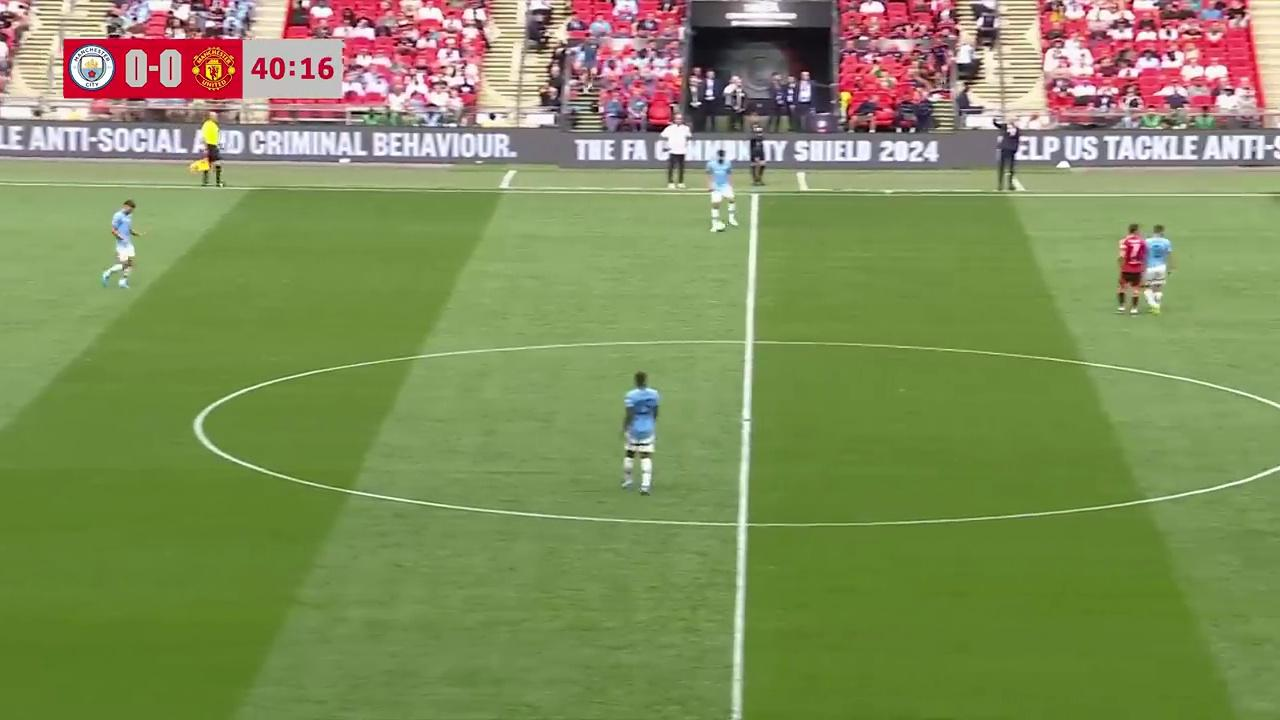ball: (117, 275, 128, 290)
player: (619, 370, 660, 495), (1136, 223, 1175, 314), (1117, 222, 1151, 315), (108, 199, 142, 287), (705, 158, 738, 232)
referee: (190, 107, 231, 189)
